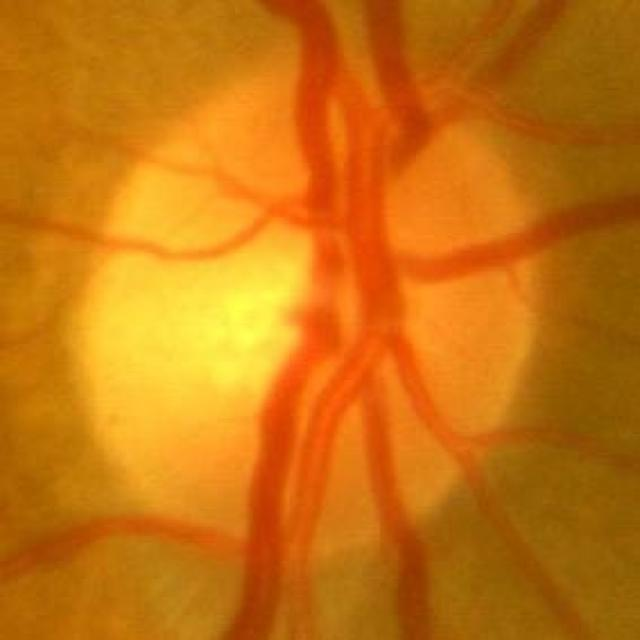OC: (195, 236, 392, 401)
OD: (70, 66, 545, 544)
